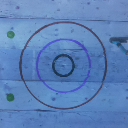Axe Tip: (114, 38, 127, 42)
